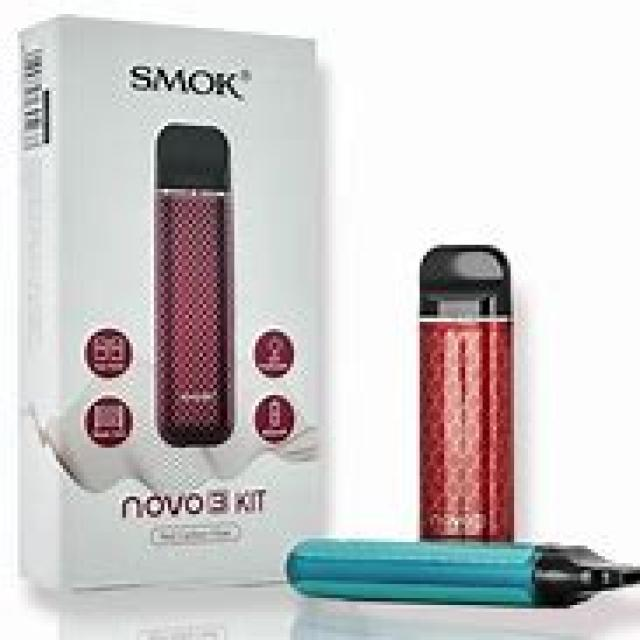Hazard: (412, 235, 522, 535), (149, 116, 238, 450), (280, 531, 640, 611)
